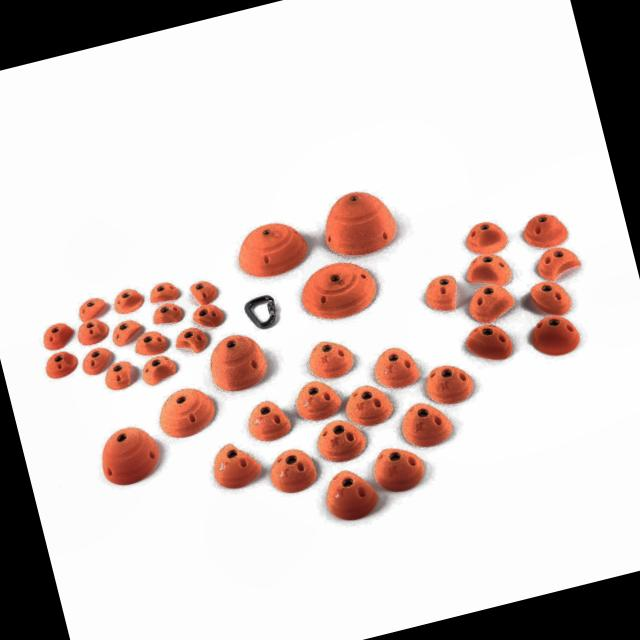Hold: (314, 180, 403, 264), (291, 256, 381, 326), (230, 215, 313, 284), (91, 419, 165, 491), (203, 328, 271, 395), (319, 464, 383, 527), (152, 382, 218, 442), (396, 393, 458, 452), (207, 435, 266, 493), (369, 441, 429, 497), (288, 370, 346, 425), (524, 309, 582, 360), (341, 379, 397, 431), (266, 446, 321, 498), (312, 414, 368, 465), (422, 360, 479, 410), (464, 277, 522, 325), (518, 207, 574, 254), (458, 247, 516, 292), (372, 342, 424, 392), (461, 320, 514, 368), (304, 334, 356, 381), (242, 395, 292, 443), (532, 242, 586, 285), (462, 218, 511, 258), (419, 272, 464, 315), (528, 278, 574, 320), (104, 282, 145, 318), (138, 354, 180, 386), (42, 346, 80, 381), (189, 296, 225, 331), (173, 324, 210, 358), (38, 320, 78, 350), (102, 359, 138, 391), (146, 276, 182, 308), (78, 344, 114, 376), (148, 298, 187, 327), (74, 317, 110, 348), (185, 274, 219, 306), (133, 328, 169, 358), (106, 318, 144, 345), (74, 294, 108, 324)
